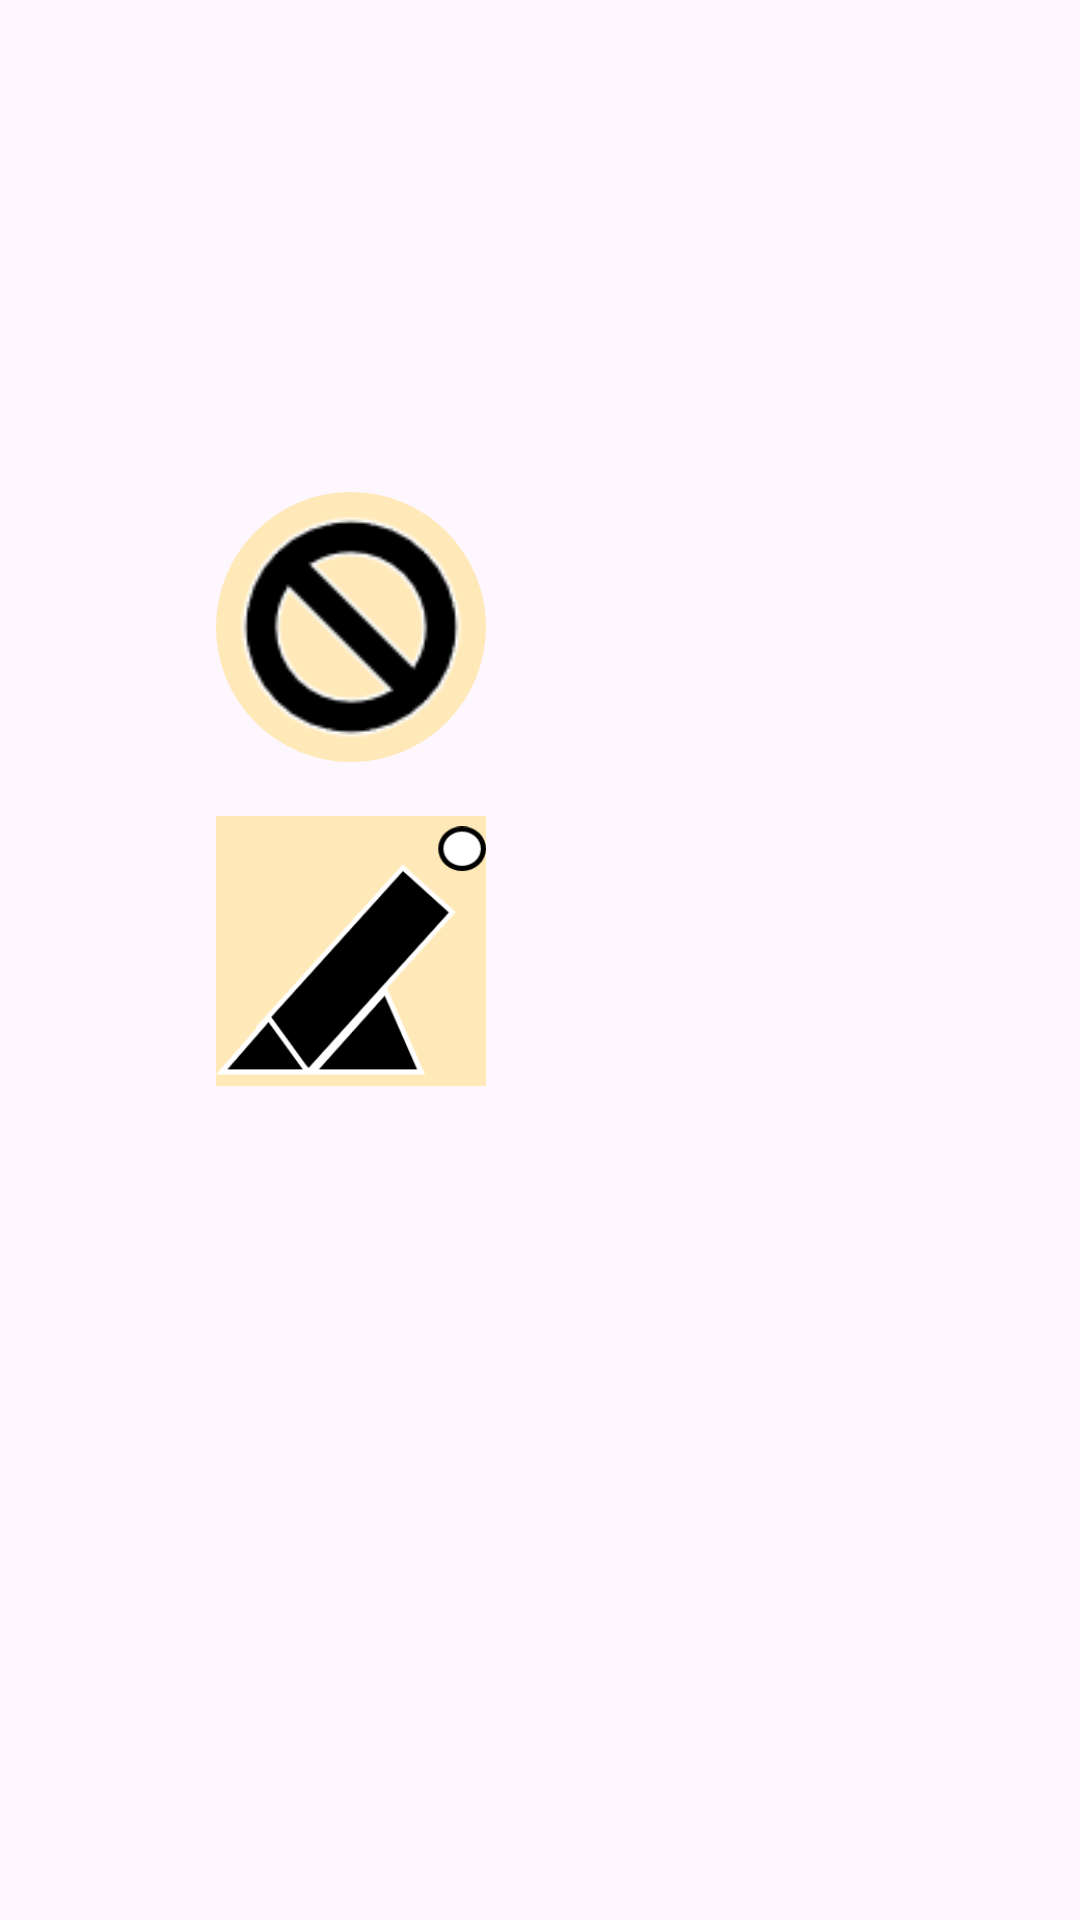

Screen size 1080 × 1920. Icon name, then its box in pixels as (x1, y1, x2, y2):
shot: (216, 816, 486, 1086)
stop: (216, 492, 486, 762)
